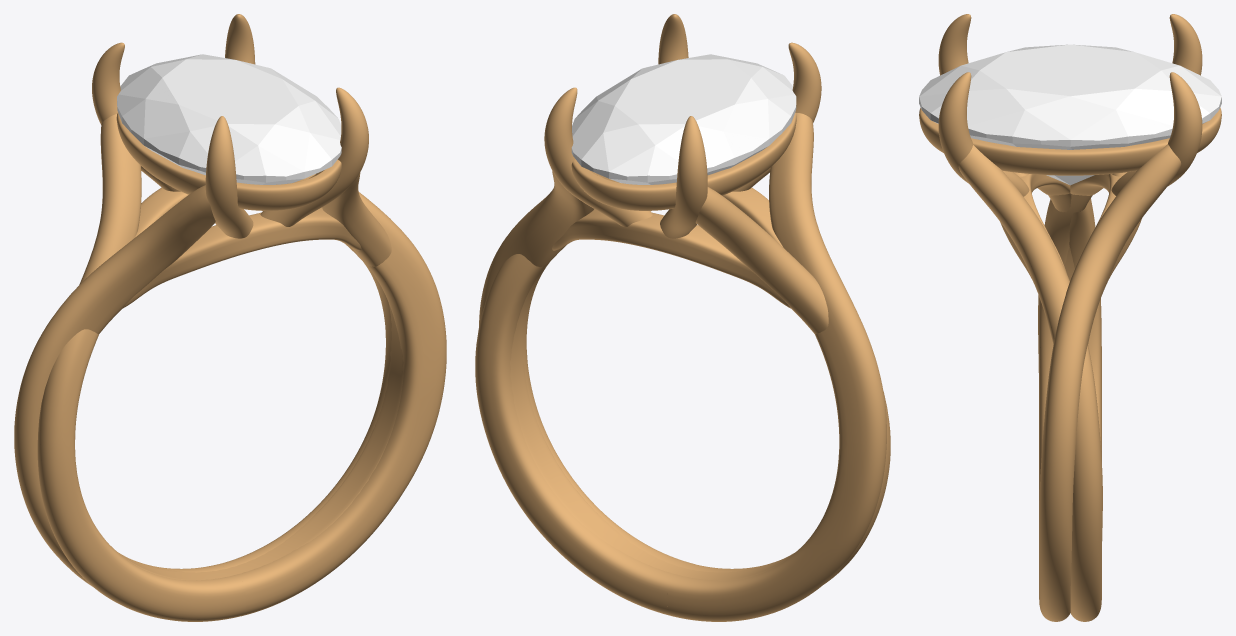
3 views of the same model, side by side, from view 1: azimuth 30°, elevation 25°; view 2: azimuth 150°, elevation 25°; view 3: azimuth 270°, elevation 25° (orthographic). The views are drawn at different scales.
Visible parts, largest first — view 1: httplocalhost8469model84693dm; view 2: httplocalhost8469model84693dm; view 3: httplocalhost8469model84693dm.
Part boxes in pixels (box(x1,y1,x2,y2)): httplocalhost8469model84693dm: box(14, 14, 446, 621); httplocalhost8469model84693dm: box(475, 14, 890, 621); httplocalhost8469model84693dm: box(919, 14, 1221, 621).
Size of the model in its own units: 2.33 by 2.92 by 1.44.
